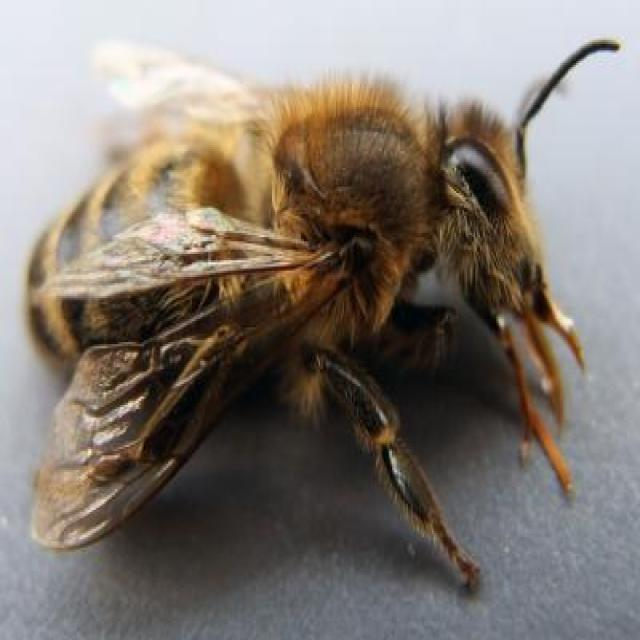antennae: (515, 39, 619, 184), (509, 76, 569, 146)
body: (26, 86, 551, 365)
insect: (23, 30, 620, 584)
legs: (297, 346, 490, 592), (444, 276, 570, 492), (370, 281, 468, 381)
mouthpart: (510, 271, 591, 420)
wings: (34, 204, 366, 561), (86, 39, 288, 146)
